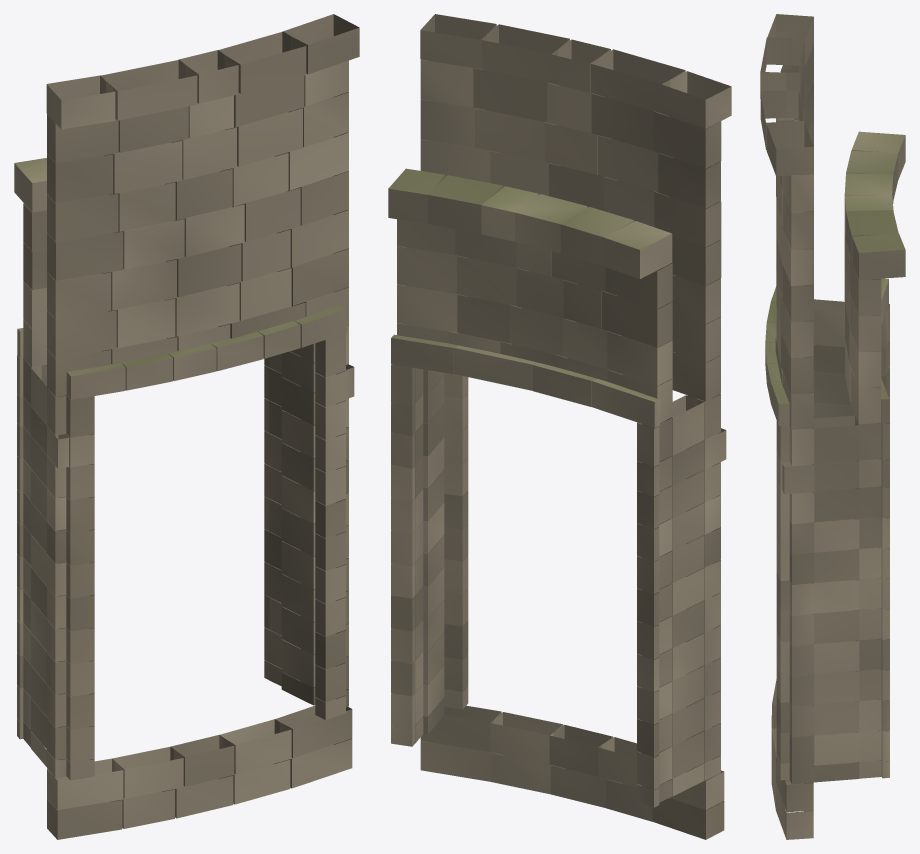
The model's file is dome_drum_door_mid.glb.
The picture shows the model from 3 angles, left to right: view 1: azimuth 30°, elevation 25°; view 2: azimuth 150°, elevation 25°; view 3: azimuth 270°, elevation 25°; orthographic projection. The views are drawn at different scales.
Parts seen in each view (by area): view 1: dome_drum_door_mid; view 2: dome_drum_door_mid; view 3: dome_drum_door_mid.
Part boxes in pixels (x1,y1,x2,y2): dome_drum_door_mid: [14, 14, 359, 839]; dome_drum_door_mid: [388, 14, 731, 839]; dome_drum_door_mid: [760, 14, 905, 839].
Bounding box in the file's own units: 20.96 × 49.97 × 9.51.
